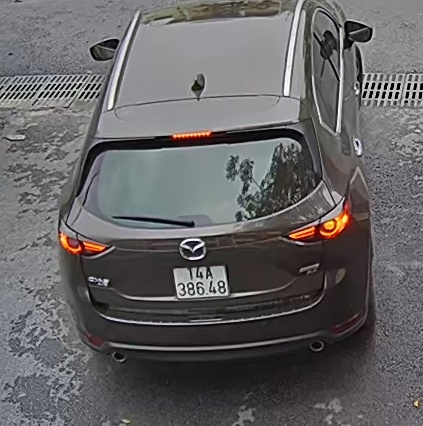vehicle plate: (169, 261, 229, 304)
